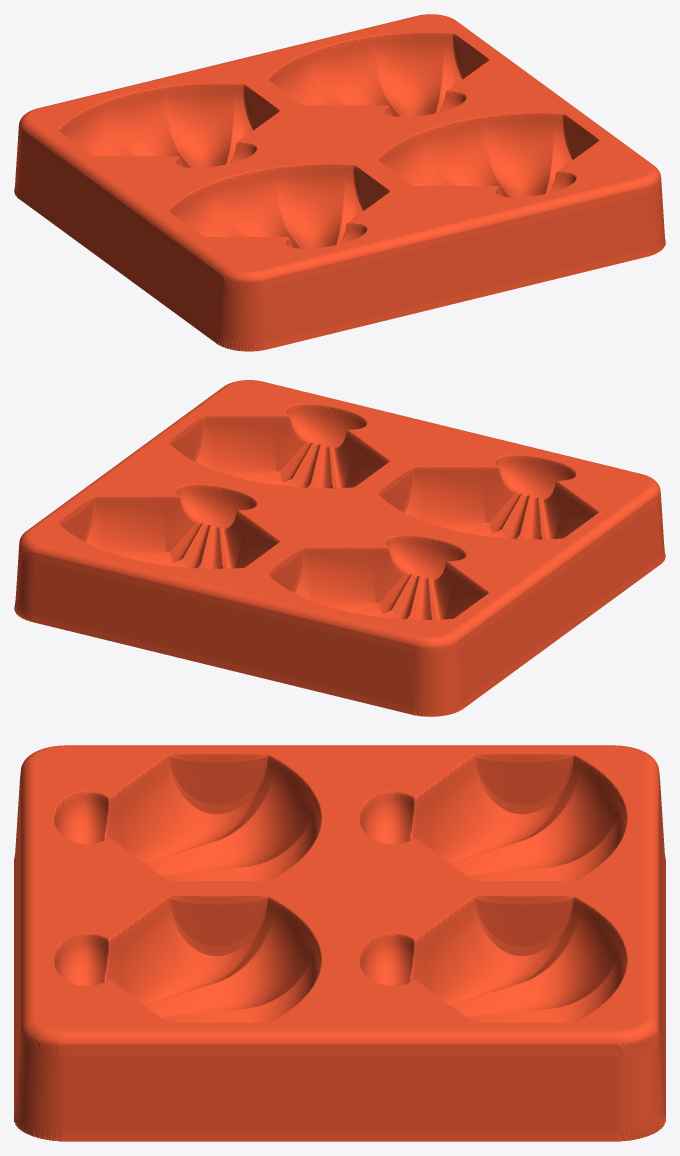
The model's file is mold.glb.
The picture shows the model from 3 angles, top to bottom: view 1: azimuth 30°, elevation 25°; view 2: azimuth 150°, elevation 25°; view 3: azimuth 270°, elevation 25°; orthographic projection. The views are drawn at different scales.
Parts seen in each view (by area): view 1: geometry_0; view 2: geometry_0; view 3: geometry_0.
Boxes of the visible parts, x1,y1,x2,y2 form: geometry_0: [14, 14, 665, 351]; geometry_0: [14, 380, 665, 716]; geometry_0: [14, 745, 665, 1141].
Bounding box in the file's own units: 0.1242 × 0.0197 × 0.1137.
